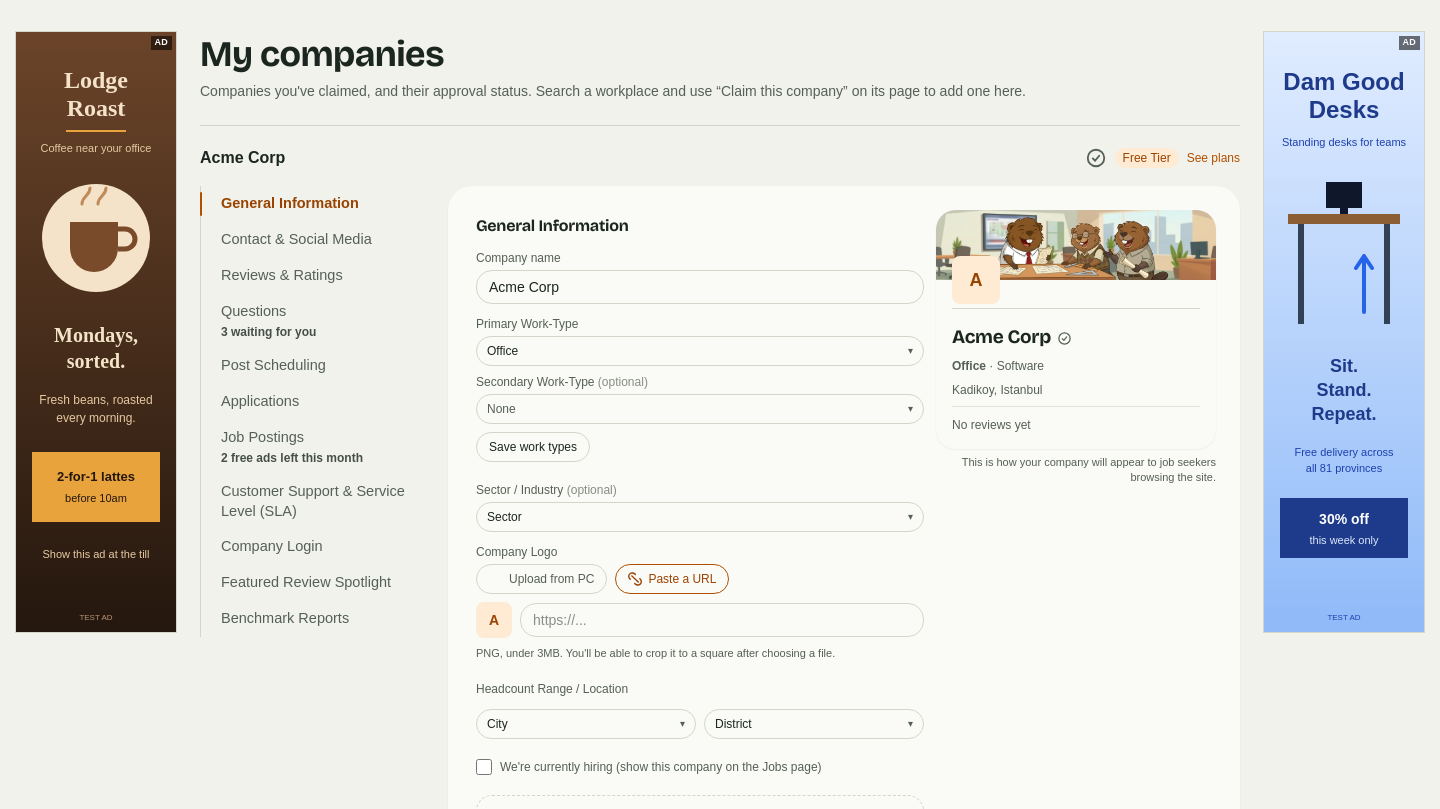
Test case: the tier label opens a closeable note about the Verified Employer Badge
Expected: the button with aria-label "Primary work-type" shows "Office", 476,336 -> 924,366
Click the button "Free Tier" at (1147, 158), box 1115,148 -> 1179,168
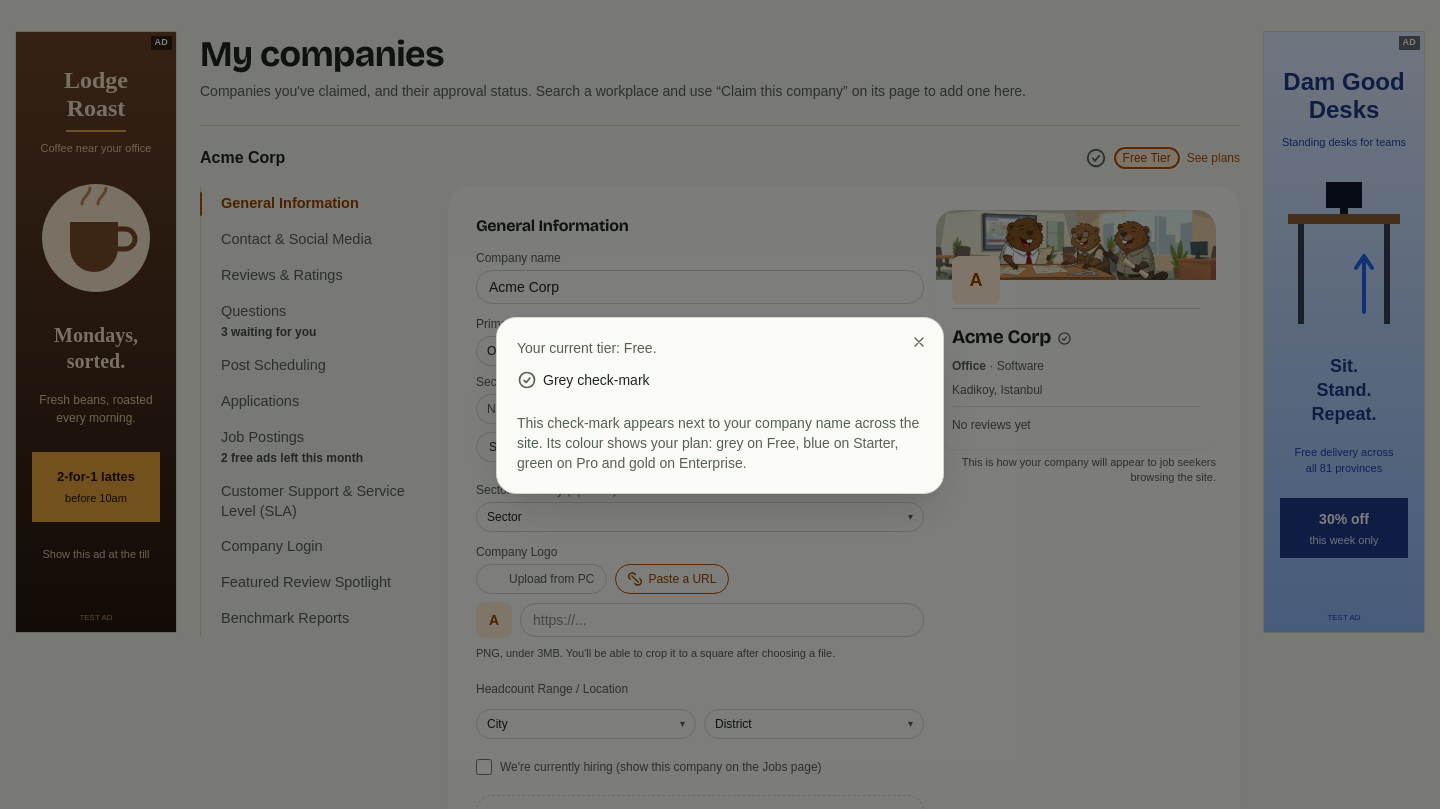
Now the text "appears next to your company name" is shown, box 517,414 -> 919,470
Now the text "Grey check-mark" is shown, box 517,370 -> 650,390
Click the button named "Close" at (919, 342), box 907,330 -> 931,354
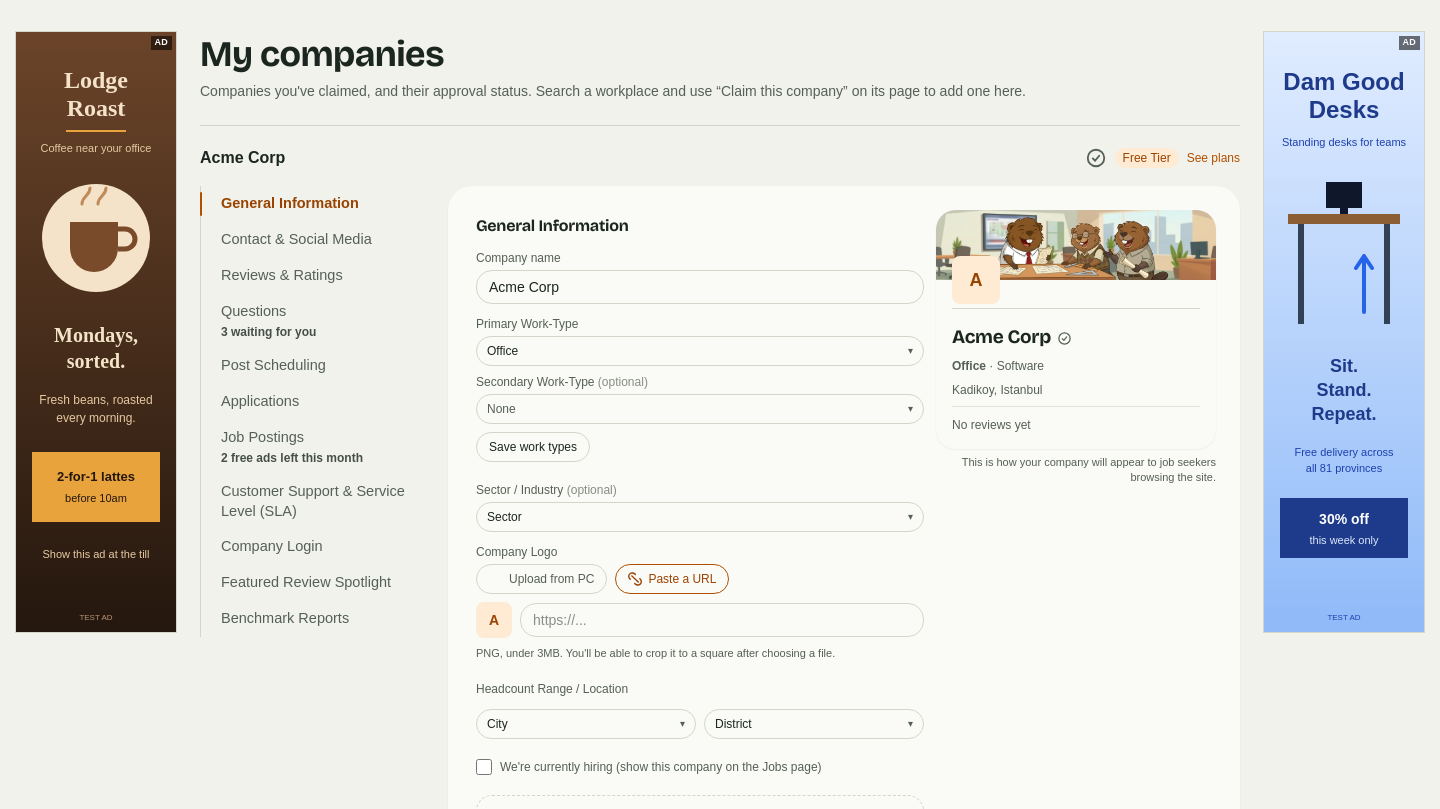
Now the dialog is gone
